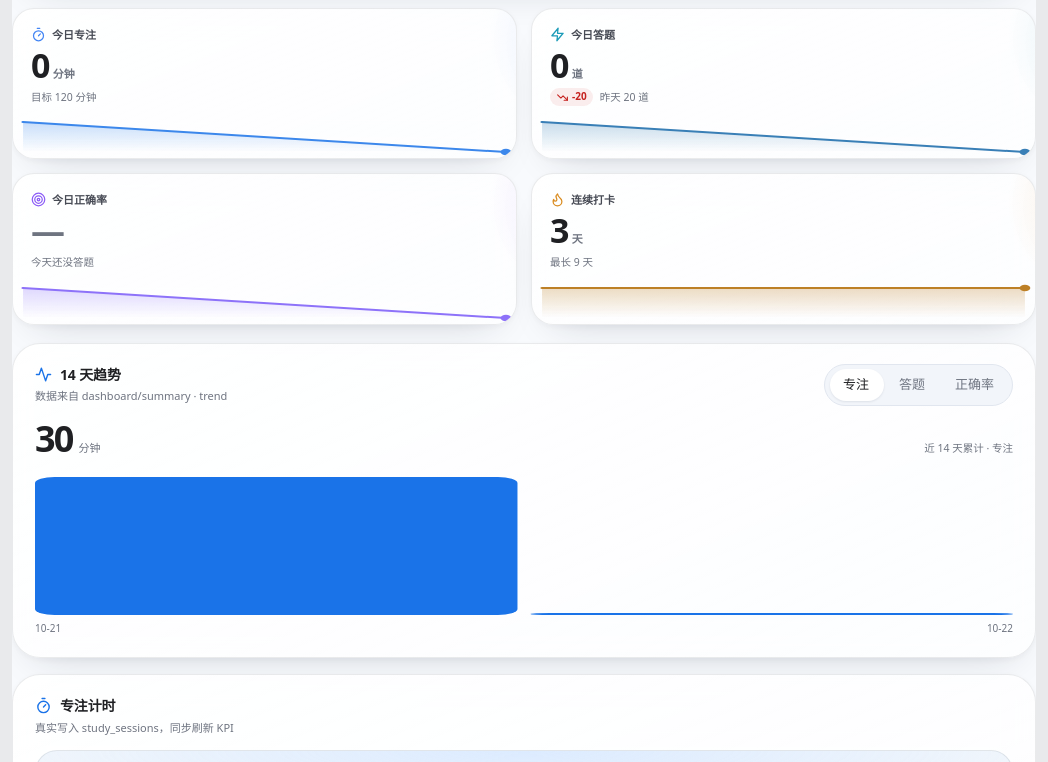
Test case: Hub 今日聚合中枢 › 趋势指标可切换，正确率走另一条曲线
The image size is (1048, 762).
(page scrolled)
Click the tab "答题".
click(912, 384)  # box [885, 368, 939, 400]
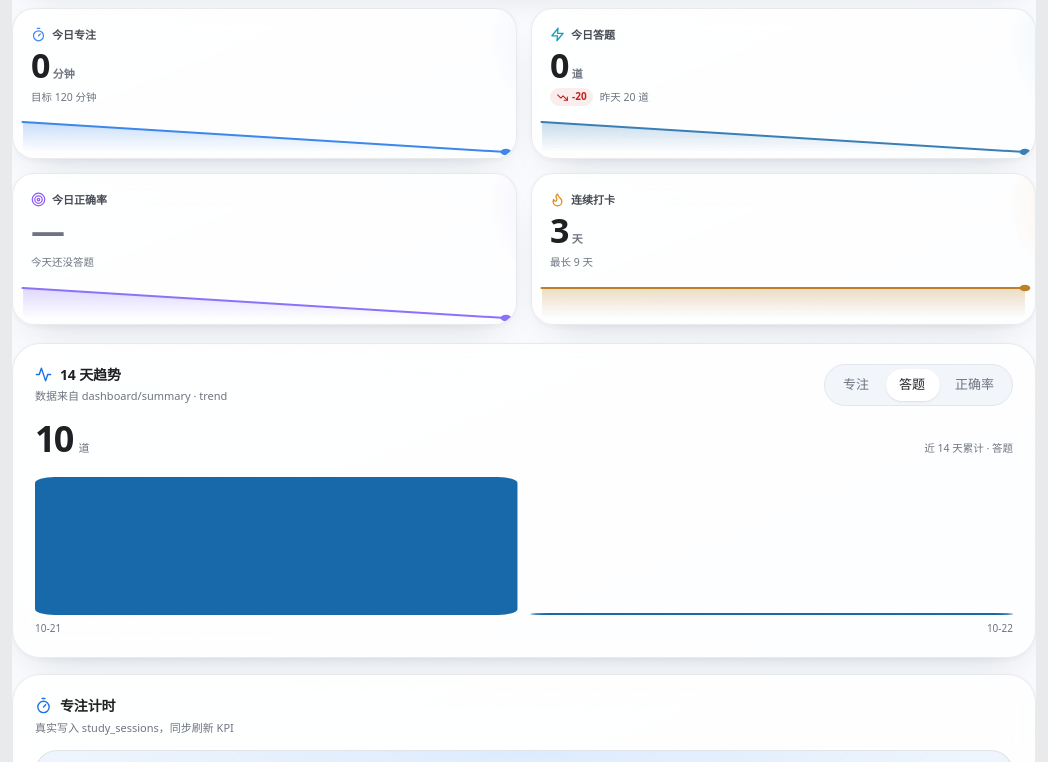
Check: the text "近 14 天累计 · 答题" is shown, box [924, 440, 1013, 456]
Click the tab "正确率".
click(974, 384)  # box [941, 368, 1008, 400]
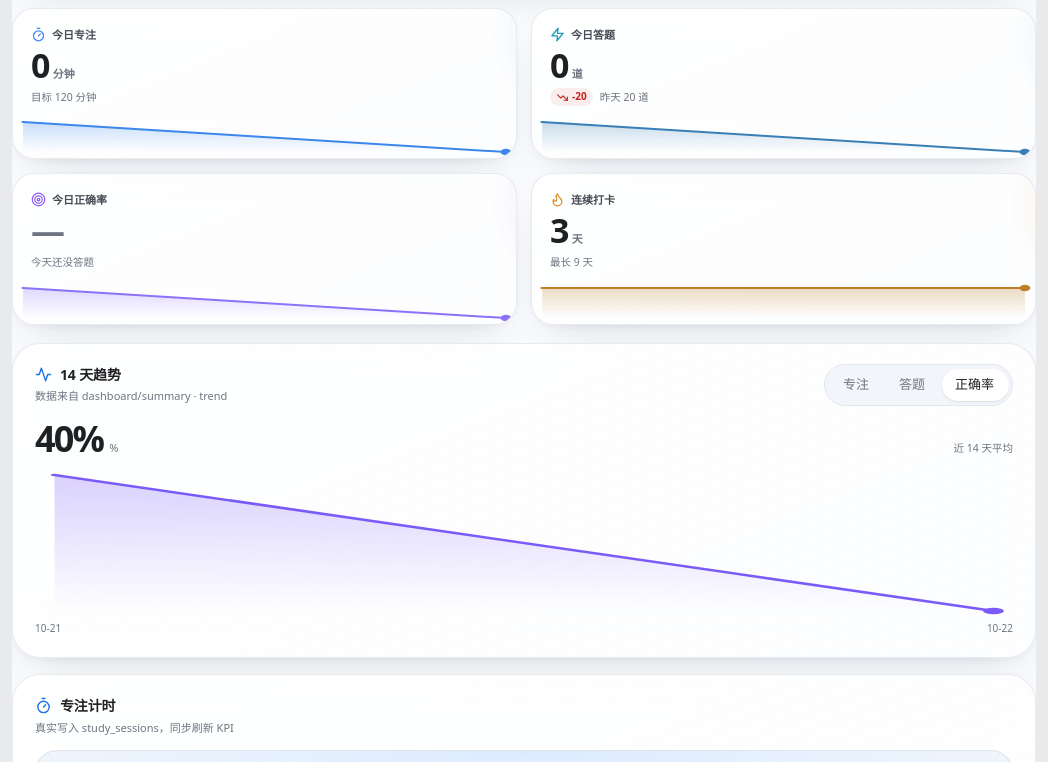
Check: the text "近 14 天平均" is shown, box [954, 440, 1013, 456]
